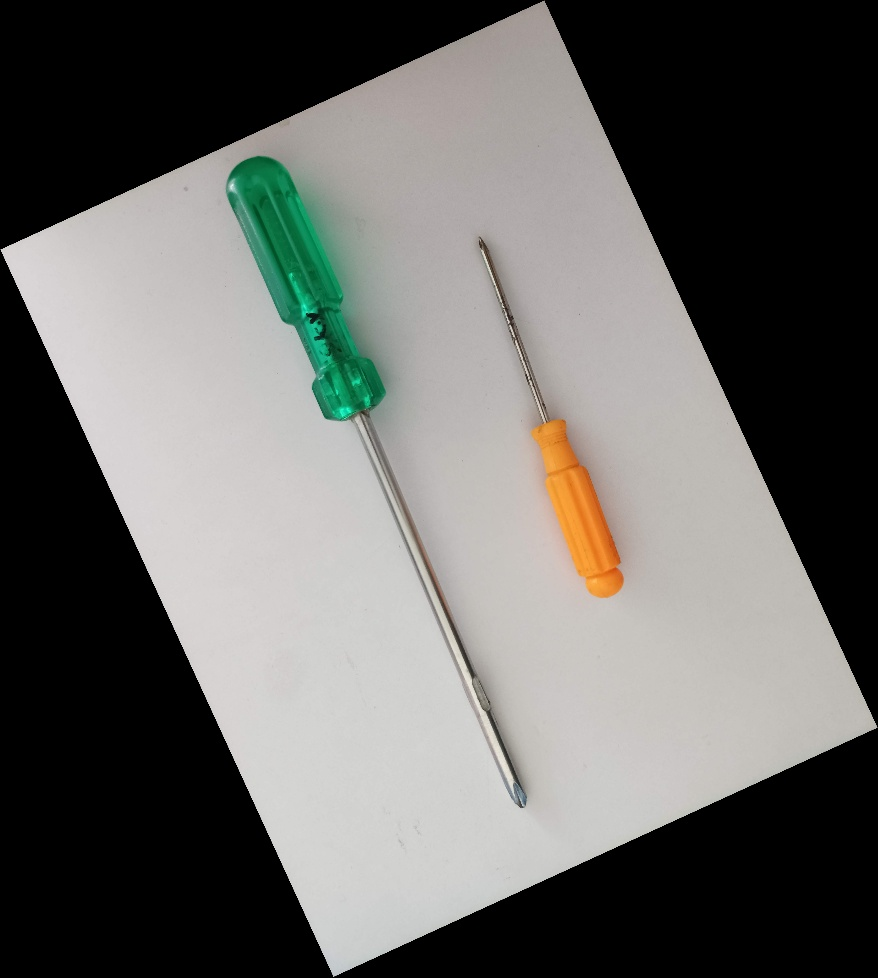screwdriver: (221, 153, 530, 815), (473, 229, 627, 600)
